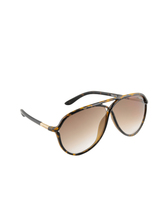glasses: (13, 88, 151, 158)
